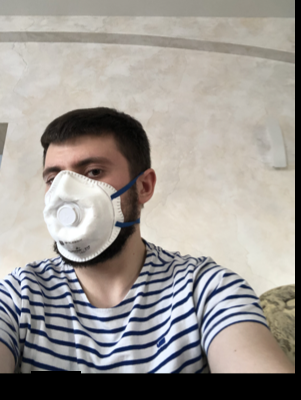with_mask: (43, 156, 133, 267)
